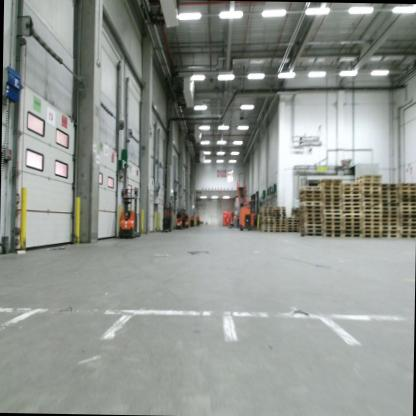pallet: (357, 172, 382, 179), (298, 204, 322, 210), (323, 229, 343, 236), (299, 184, 322, 190), (299, 232, 321, 238), (300, 192, 321, 198), (362, 209, 382, 215), (303, 212, 322, 218), (322, 180, 341, 186), (342, 188, 360, 194), (323, 197, 341, 203), (300, 197, 321, 202), (362, 205, 382, 210), (342, 209, 362, 214), (321, 189, 341, 194), (297, 201, 321, 205), (356, 178, 380, 182), (363, 229, 382, 234), (380, 181, 399, 186), (344, 229, 363, 234), (342, 197, 361, 202), (343, 213, 362, 218), (323, 220, 342, 225), (323, 205, 342, 210), (299, 220, 322, 224), (363, 222, 381, 227), (380, 185, 395, 191), (380, 197, 398, 202), (380, 201, 398, 206), (380, 209, 398, 214), (380, 225, 398, 230), (343, 221, 361, 226), (324, 233, 342, 238), (324, 213, 342, 218), (300, 224, 322, 228), (300, 228, 322, 232), (363, 181, 380, 186), (363, 185, 380, 190), (381, 230, 398, 235), (401, 201, 415, 207), (302, 209, 322, 213), (400, 183, 416, 188), (342, 193, 362, 197), (323, 225, 343, 229), (362, 194, 381, 198), (363, 215, 382, 219), (363, 226, 382, 230), (363, 234, 382, 238), (344, 233, 363, 237), (341, 181, 360, 185), (341, 185, 360, 189), (342, 205, 361, 209), (343, 226, 362, 230), (322, 186, 341, 190), (401, 214, 416, 219), (362, 190, 380, 194), (363, 198, 381, 202), (380, 194, 398, 198), (380, 206, 398, 210), (343, 217, 361, 221), (401, 230, 415, 235), (381, 214, 398, 218), (299, 189, 321, 192), (299, 218, 321, 221), (400, 218, 416, 222), (400, 207, 416, 211), (400, 194, 416, 198), (380, 190, 396, 194), (380, 222, 396, 226), (400, 222, 415, 226), (401, 210, 416, 214), (400, 198, 415, 202), (381, 218, 396, 222), (321, 194, 341, 197), (260, 216, 275, 220), (363, 202, 382, 205), (342, 202, 361, 205), (323, 210, 342, 213), (323, 203, 342, 206), (401, 234, 415, 238), (401, 226, 415, 230), (363, 219, 381, 222), (399, 191, 416, 194), (399, 188, 416, 191), (381, 234, 398, 237), (274, 205, 286, 209), (260, 221, 274, 224), (259, 209, 273, 212), (260, 206, 274, 209), (260, 224, 273, 227), (324, 218, 342, 220), (261, 229, 273, 232), (261, 227, 273, 230), (274, 208, 286, 211), (274, 221, 286, 224), (274, 224, 286, 227), (274, 226, 286, 229), (274, 229, 286, 232), (274, 213, 285, 216), (274, 218, 285, 221), (287, 216, 298, 219), (287, 219, 298, 222), (286, 229, 297, 232), (260, 214, 275, 216), (287, 224, 297, 227), (287, 226, 297, 229), (260, 219, 274, 221), (260, 212, 273, 214), (274, 211, 285, 213), (274, 216, 285, 218), (287, 222, 297, 224)
pallet_truck: (117, 182, 145, 240), (159, 199, 173, 233), (176, 206, 184, 229), (182, 210, 191, 229), (189, 212, 195, 228), (194, 215, 201, 228)
